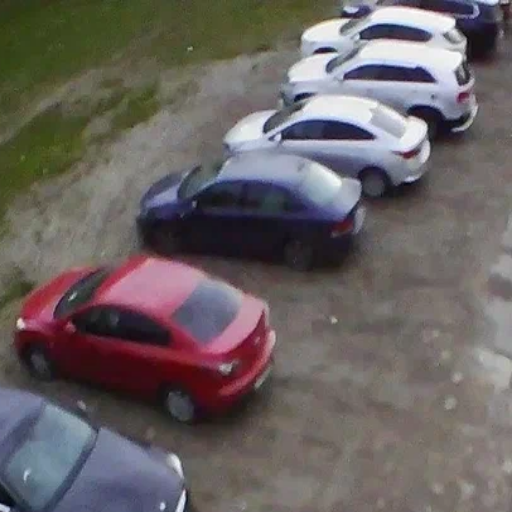Car: (14, 258, 275, 420), (138, 153, 370, 270), (0, 383, 188, 510), (223, 97, 432, 194), (280, 46, 478, 137), (294, 12, 459, 71), (342, 3, 506, 58)
